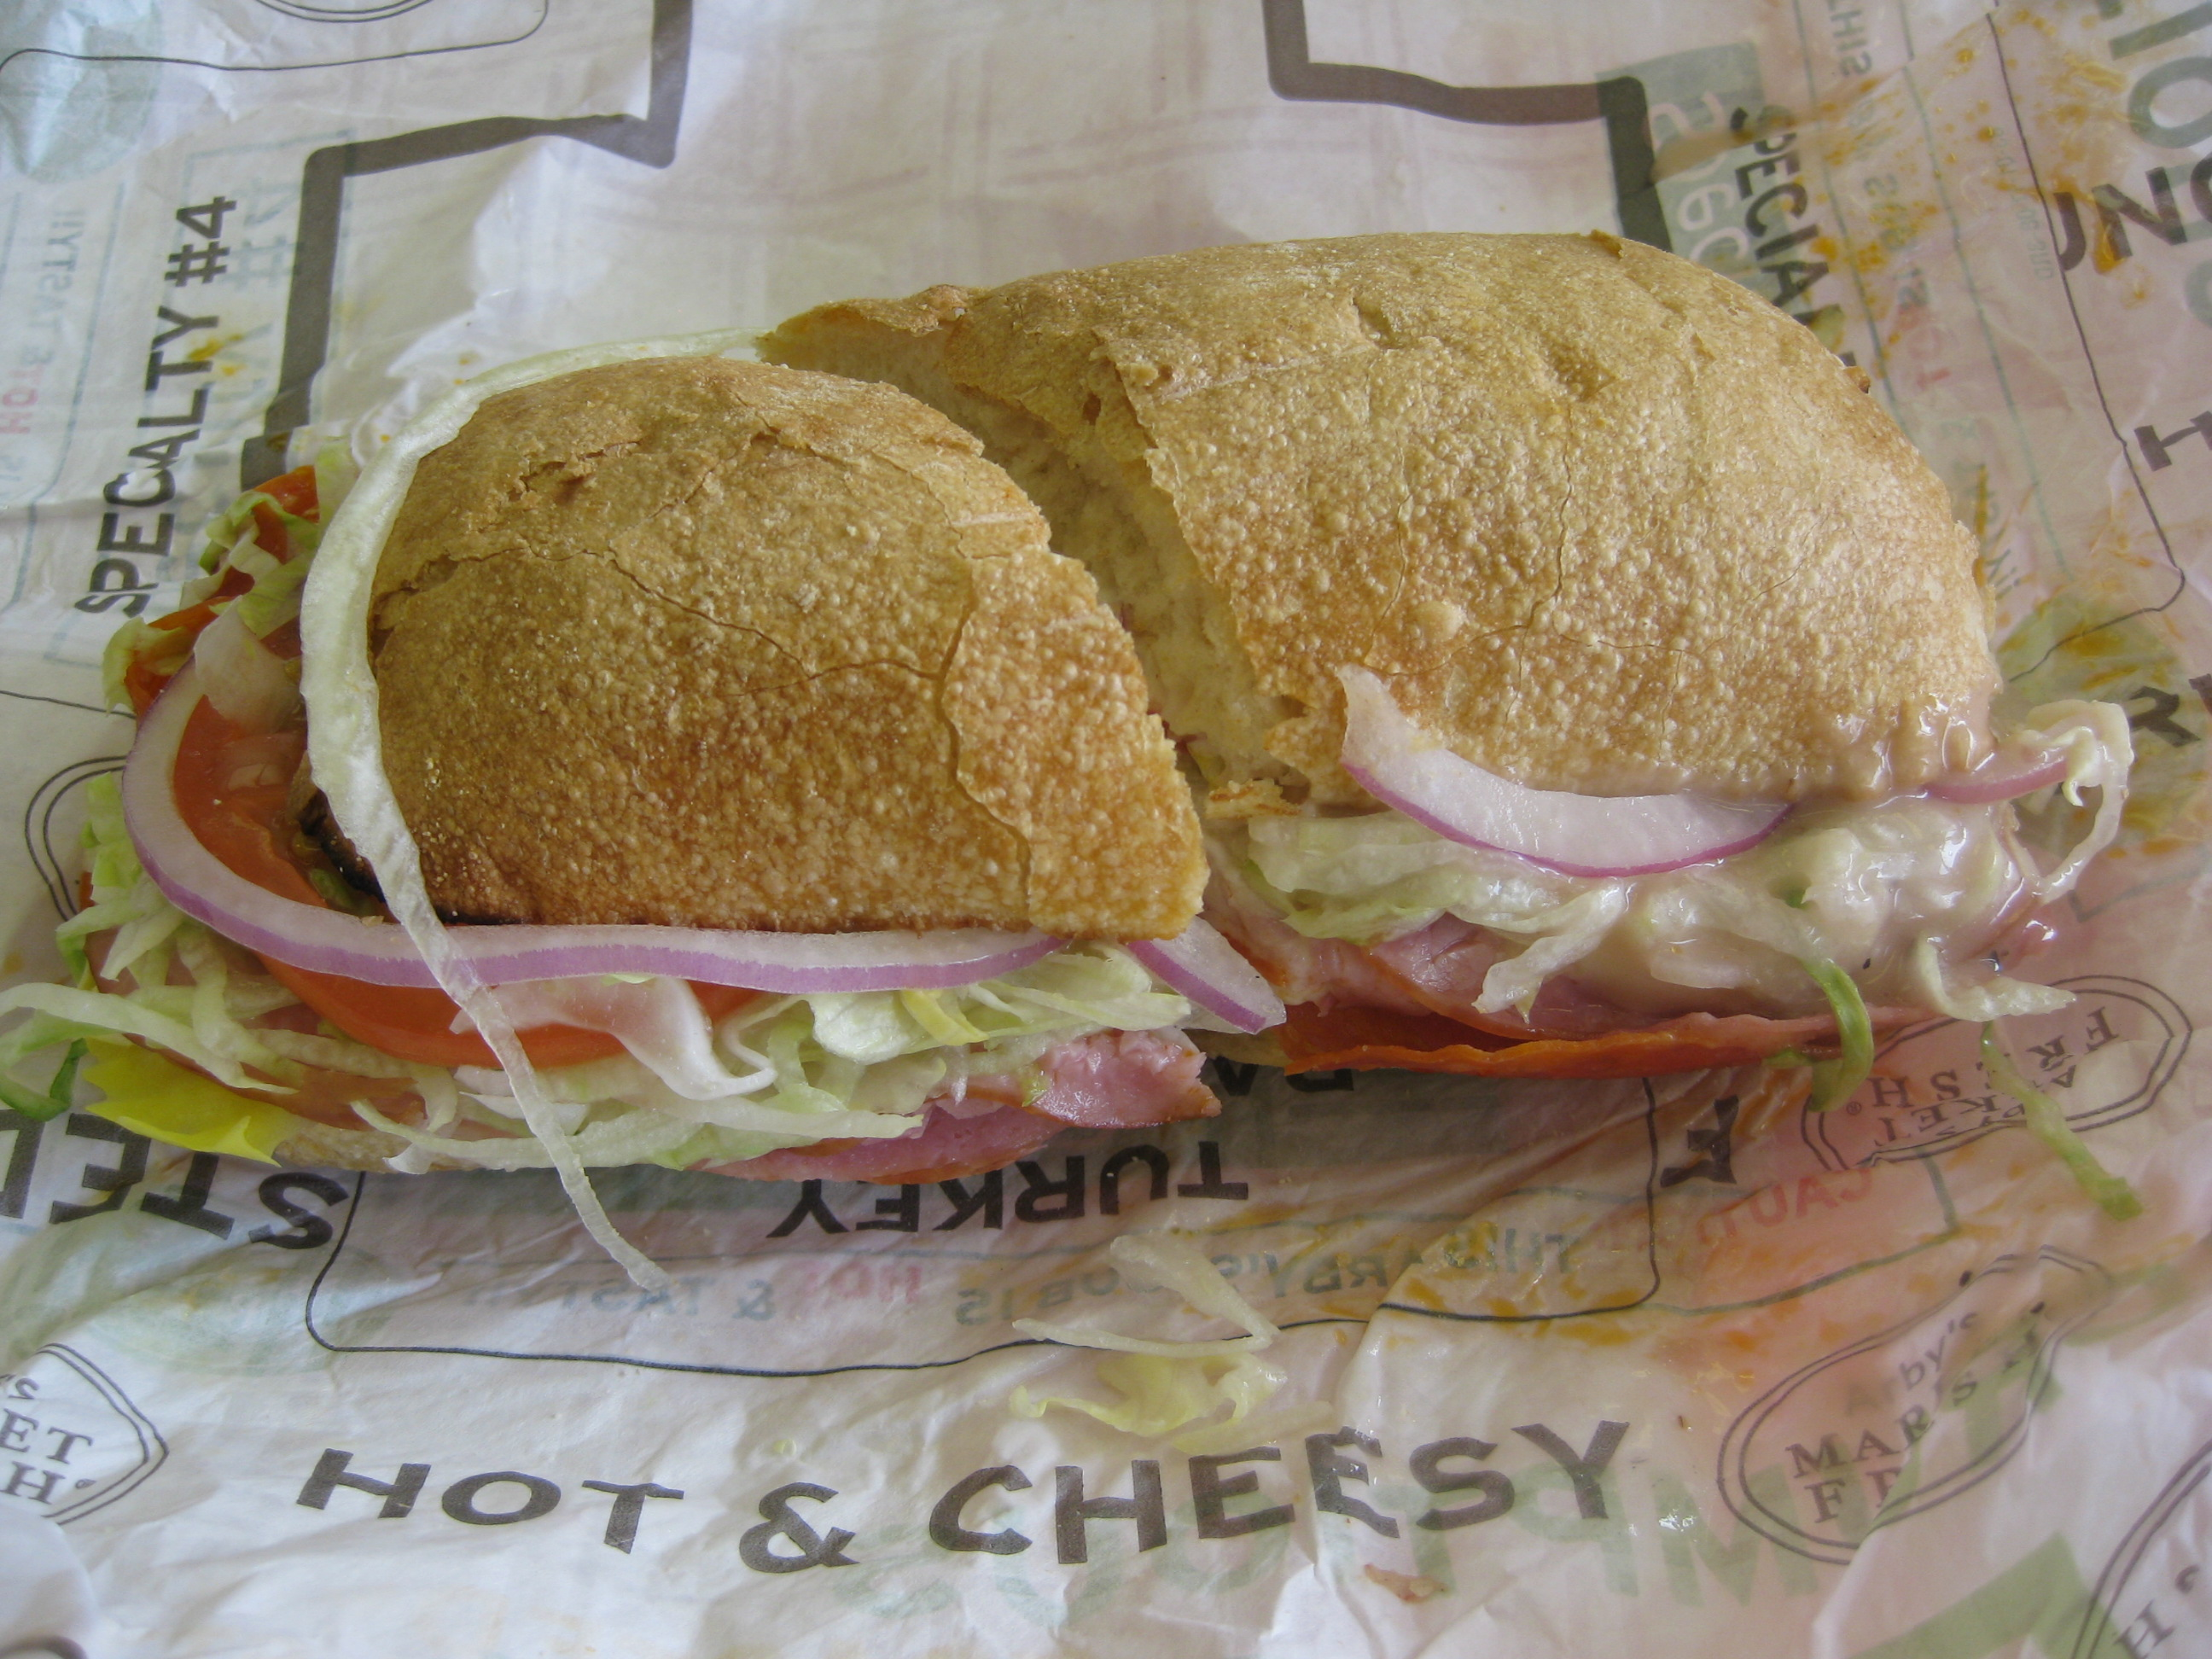sub: (187, 208, 2124, 1192)
